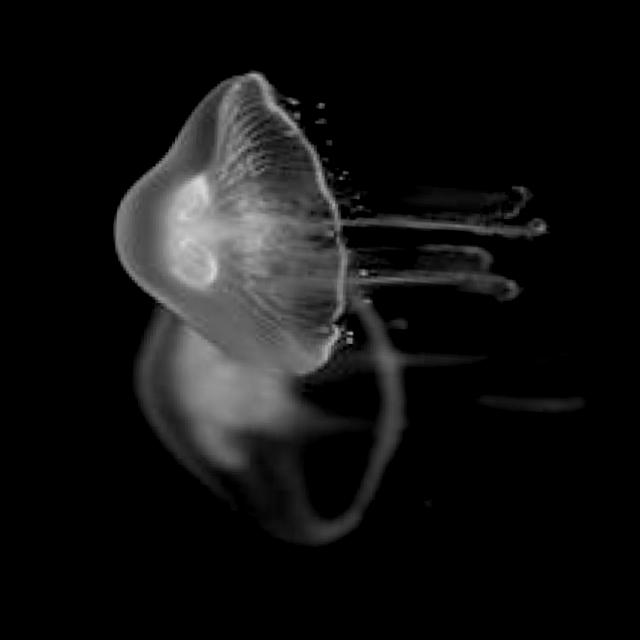Moon-jellyfish: (116, 269, 637, 564), (103, 57, 557, 390)
